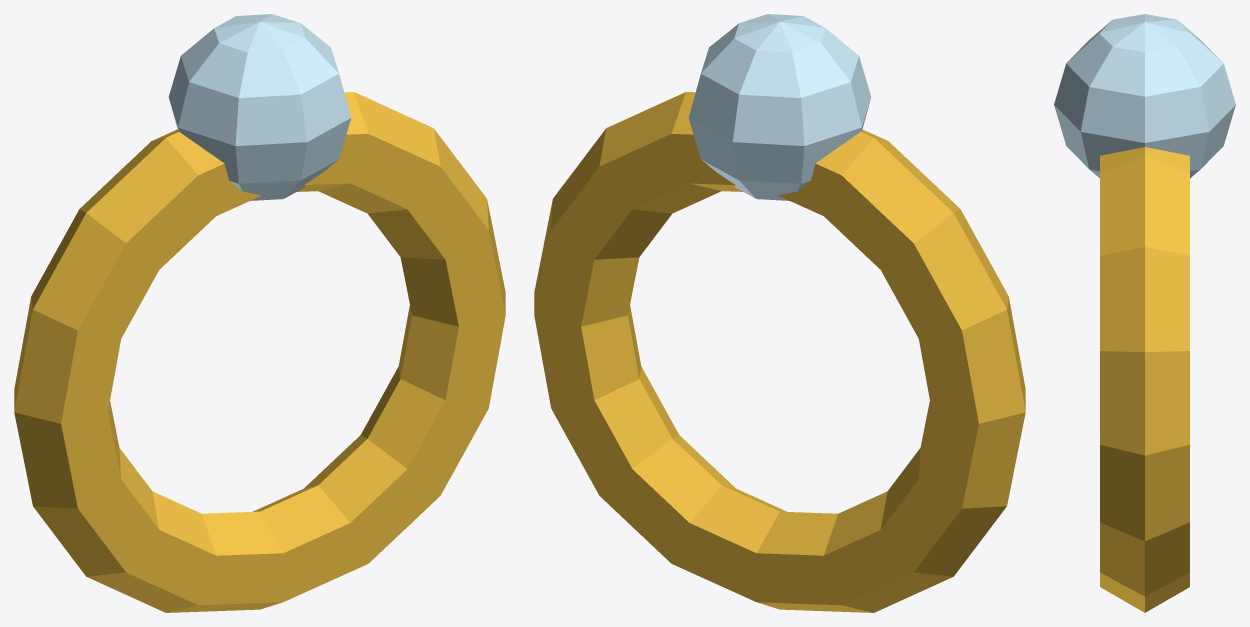
Rendered from ring.fbx.
The picture shows the model from 3 angles, left to right: view 1: azimuth 30°, elevation 25°; view 2: azimuth 150°, elevation 25°; view 3: azimuth 270°, elevation 25°; orthographic projection. The views are drawn at different scales.
Parts seen in each view (by area): view 1: ring; view 2: ring; view 3: ring.
Boxes of the visible parts, x1,y1,x2,y2 form: ring: (14,14,505,612); ring: (534,14,1025,612); ring: (1054,14,1235,612).
Bounding box in the file's own units: 0.021 × 0.024 × 0.007.
